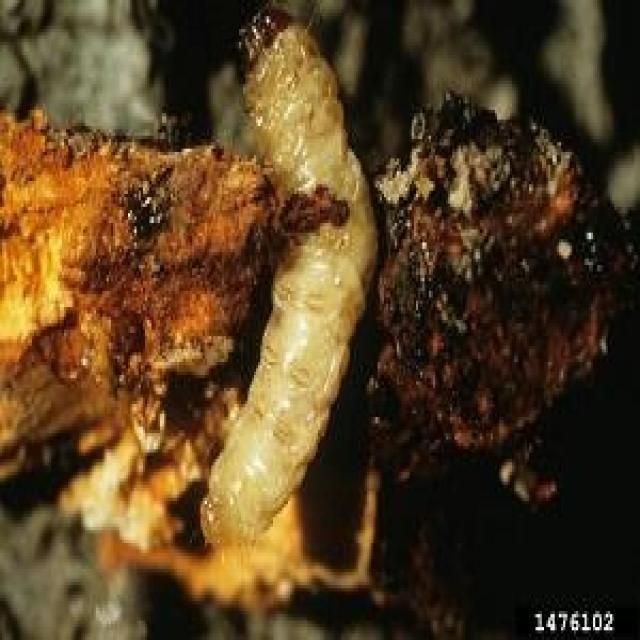peach borer: (201, 24, 368, 554)
